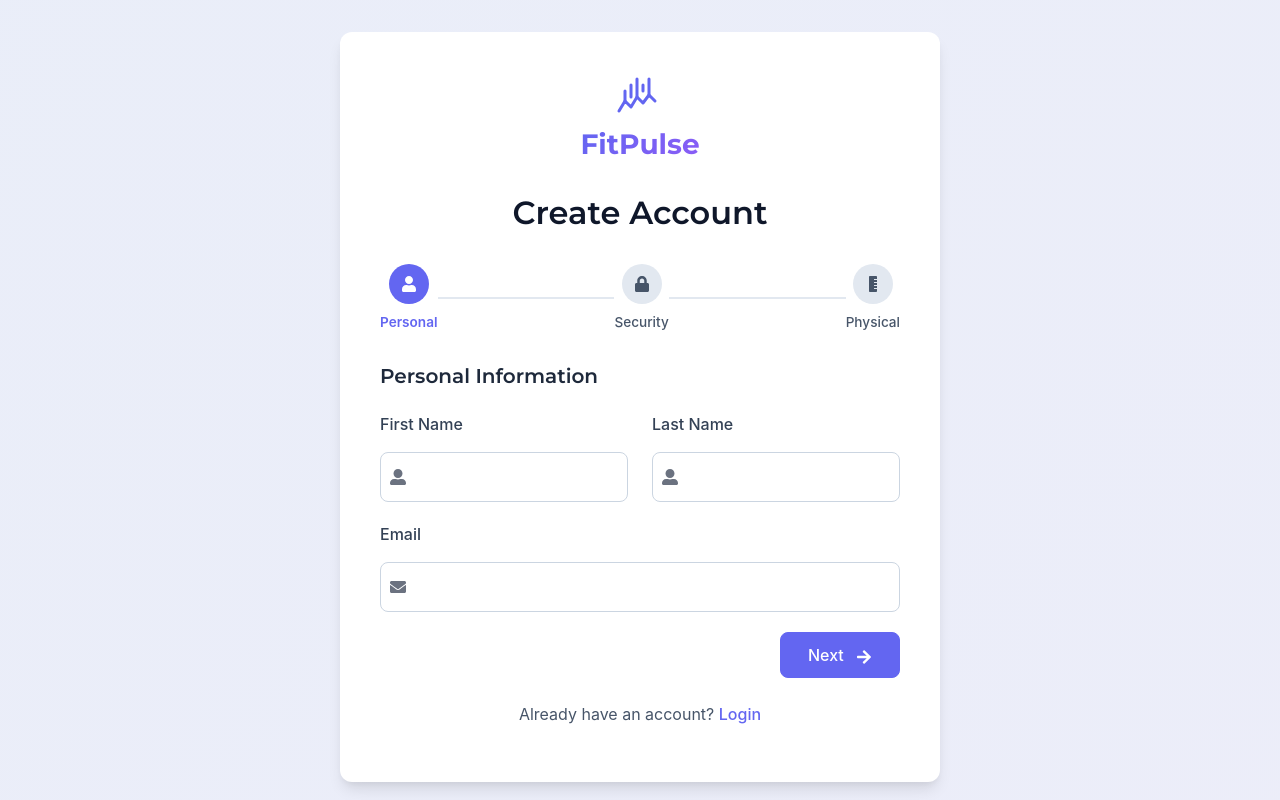
Register Component › shows loading state when submitting
# Go through all steps
Type "John" into the field labelled "First Name" at (504, 477), box [380, 452, 628, 502]
Type "Doe" into the field labelled "Last Name" at (776, 477), box [652, 452, 900, 502]
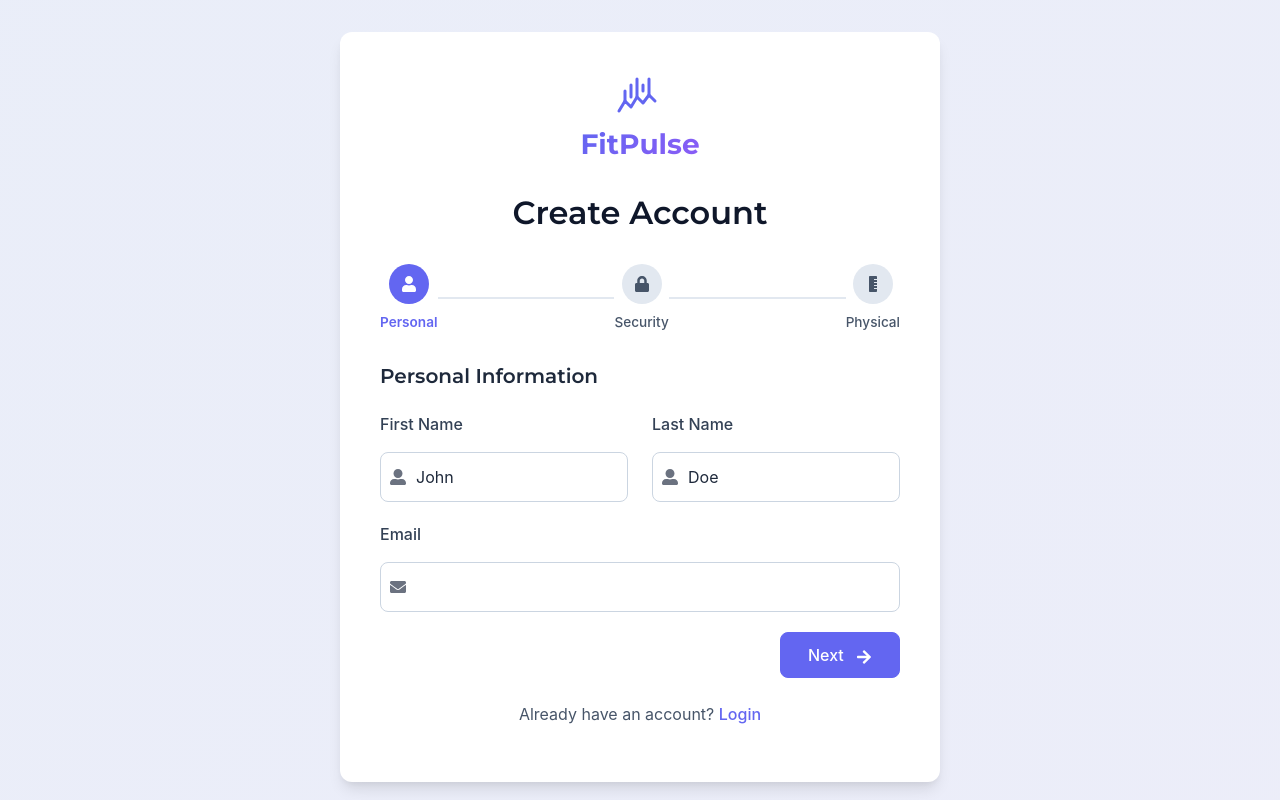
Type "john@example.com" into the field labelled "Email" at (640, 587), box [380, 562, 900, 612]
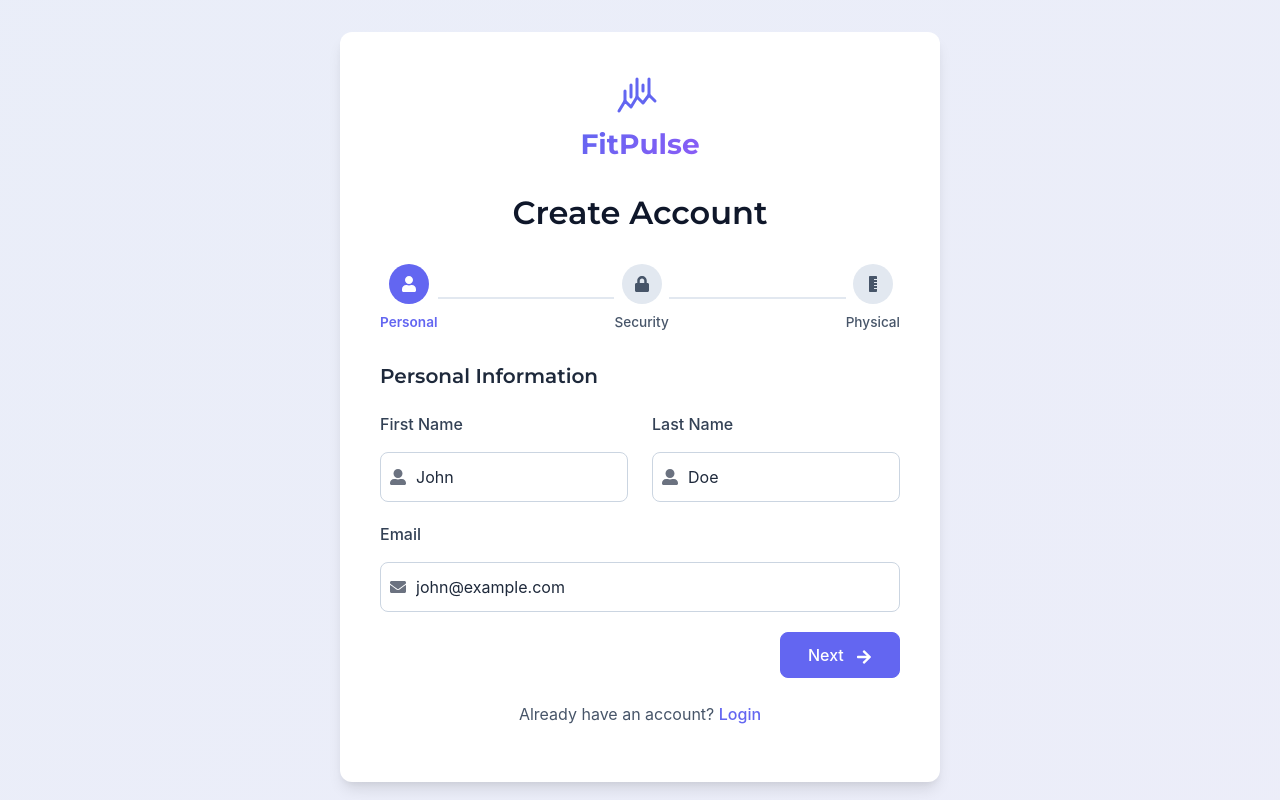
Click the button "Next" at (840, 655), box [780, 632, 900, 678]
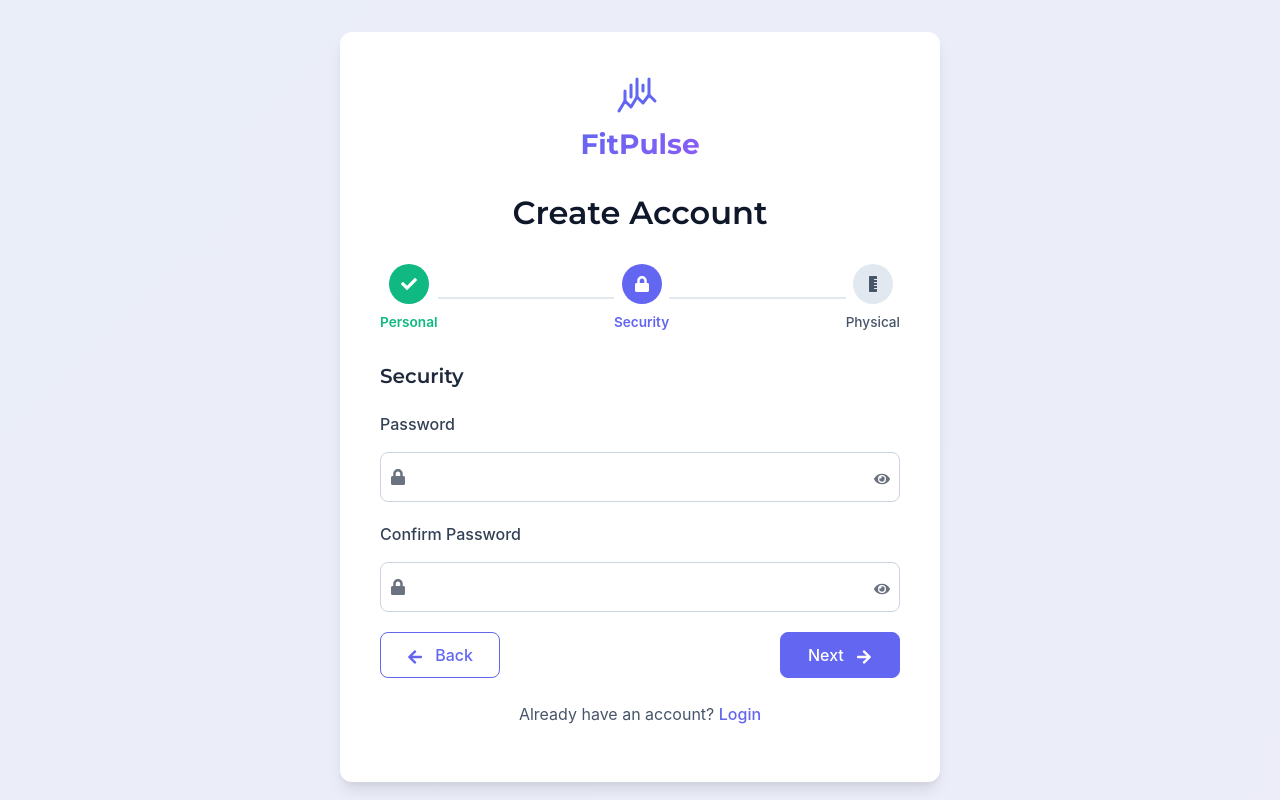
Type "password123" into the password field labelled "Password" at (640, 477), box [380, 452, 900, 502]
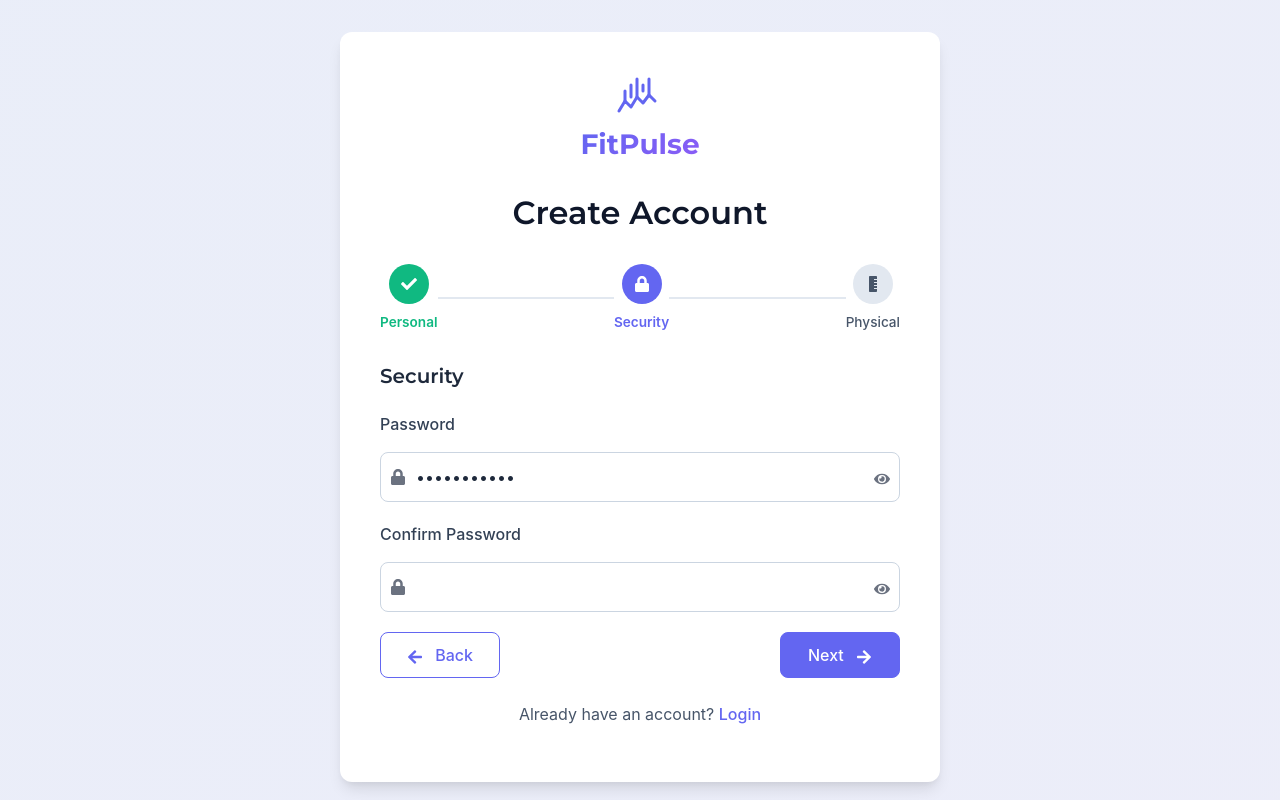
Type "password123" into the password field labelled "Confirm Password" at (640, 587), box [380, 562, 900, 612]
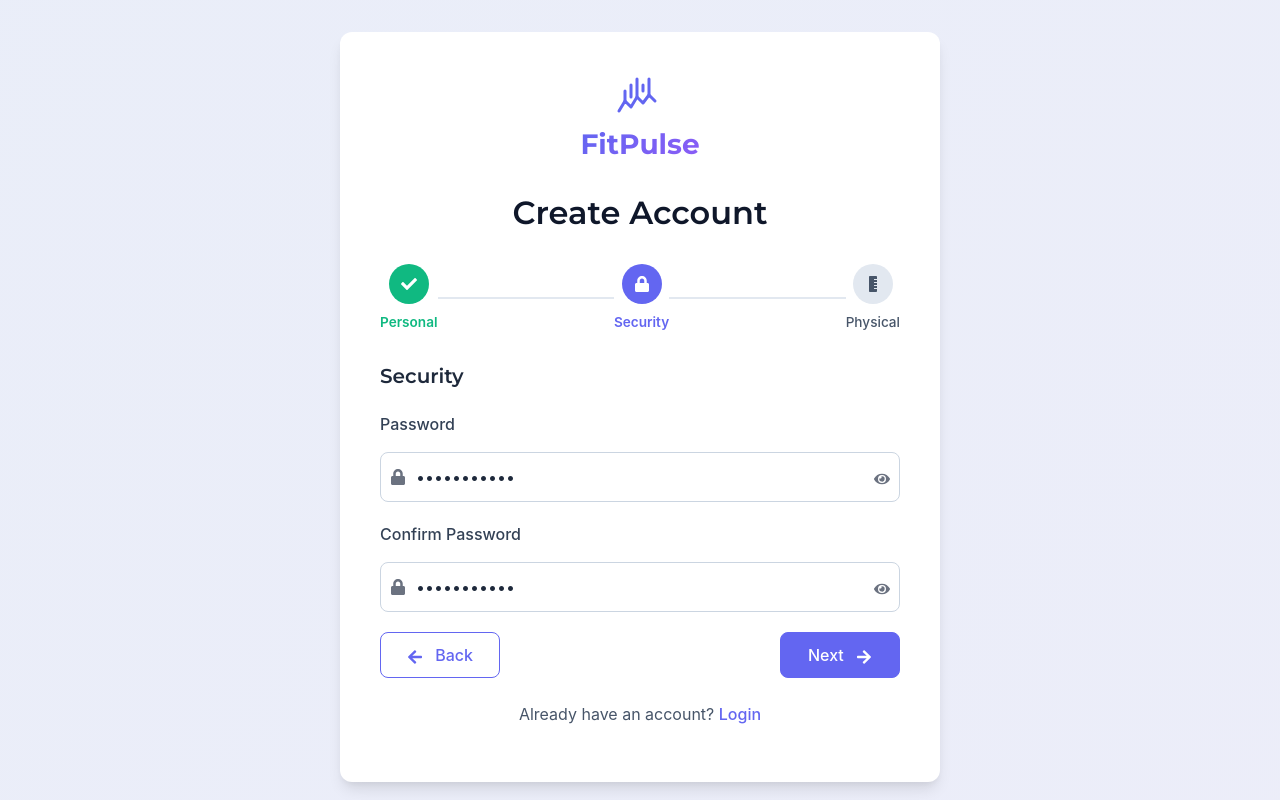
Click the button "Next" at (840, 655), box [780, 632, 900, 678]
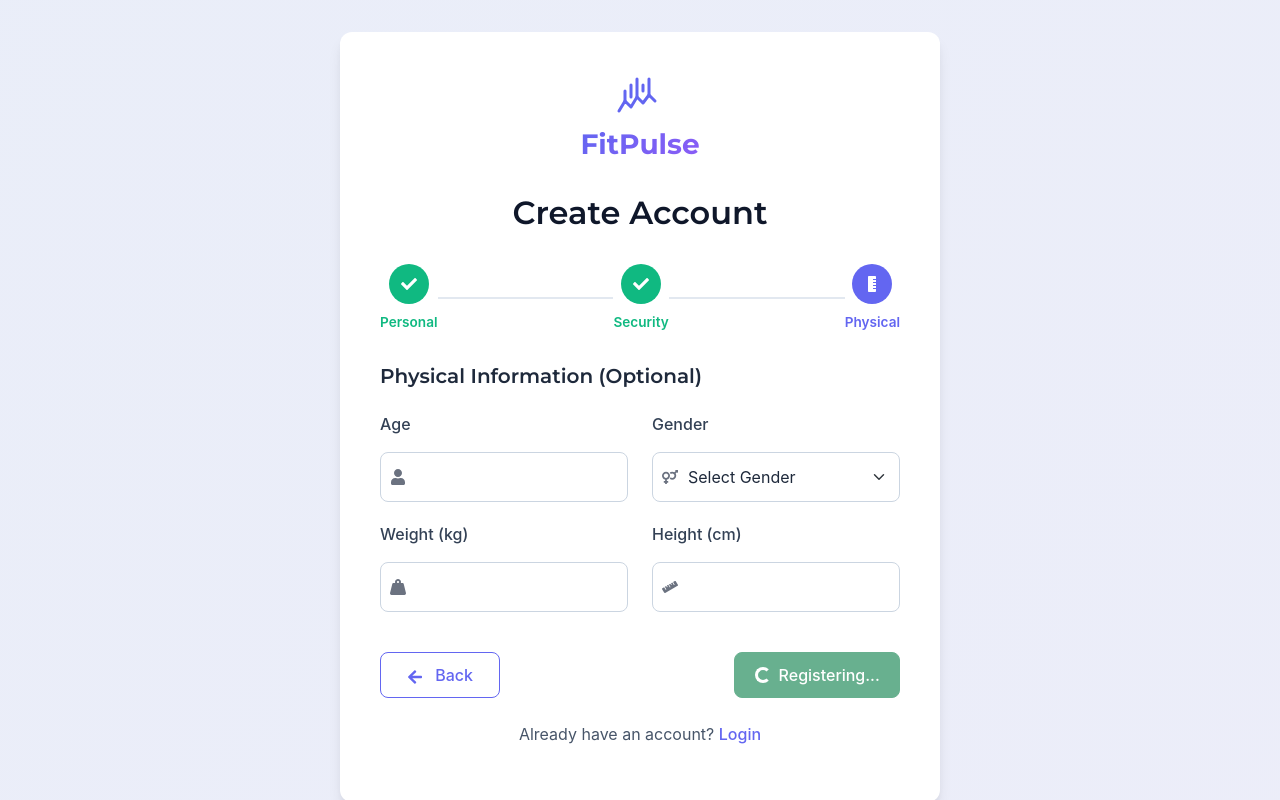
Check: the button "Registering..." is disabled, box [734, 652, 900, 698]
